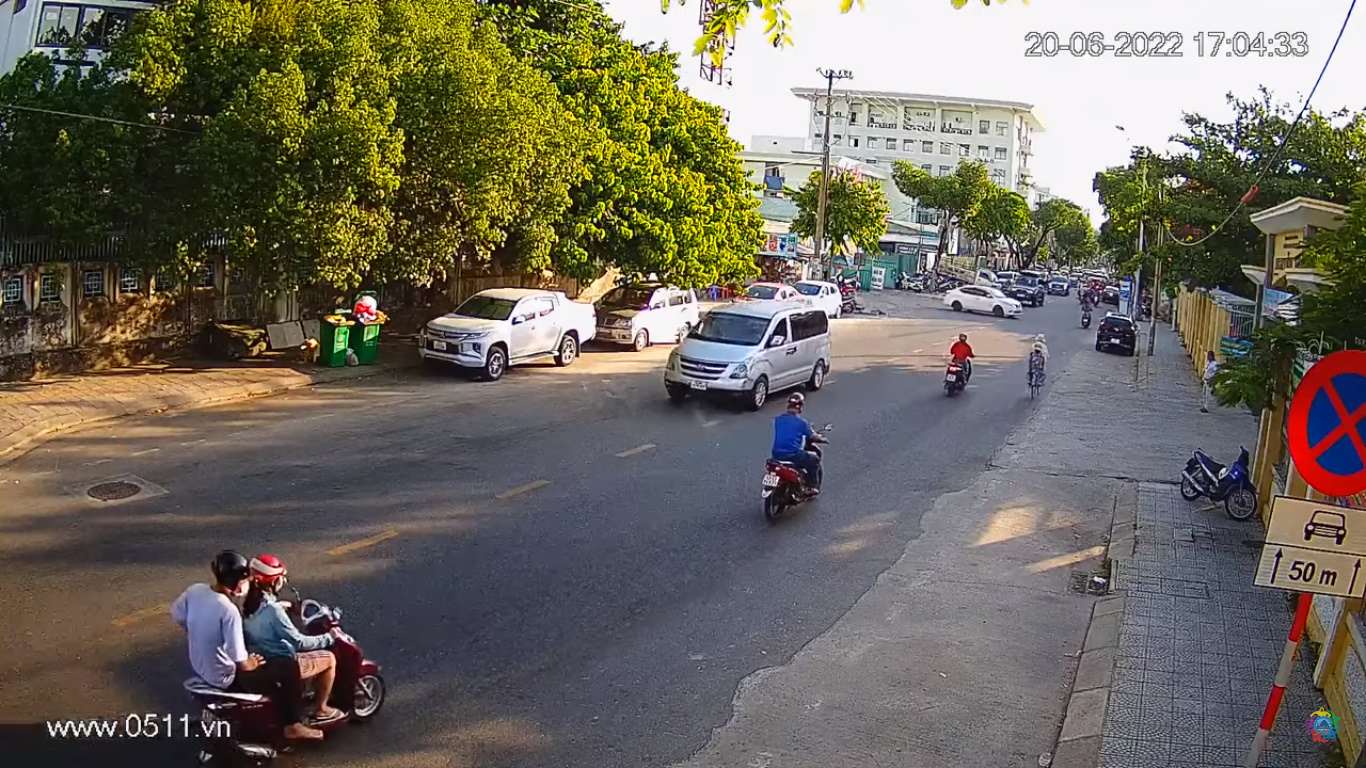car: (664, 302, 833, 405)
